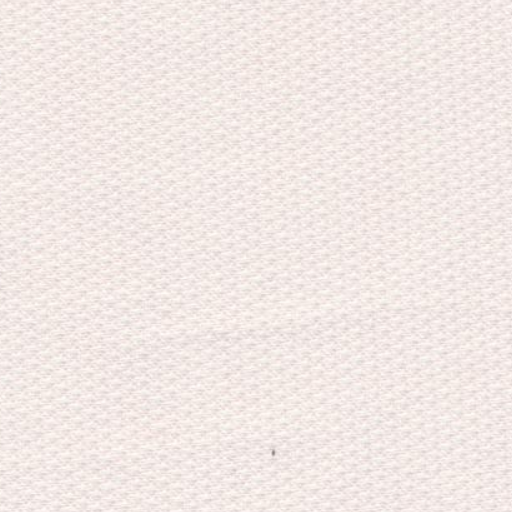WuZi: (254, 430, 289, 470)
